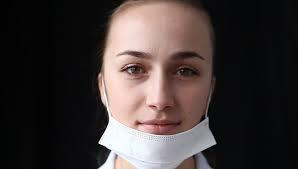Wore Mask Incorrectly: (94, 1, 227, 168)
